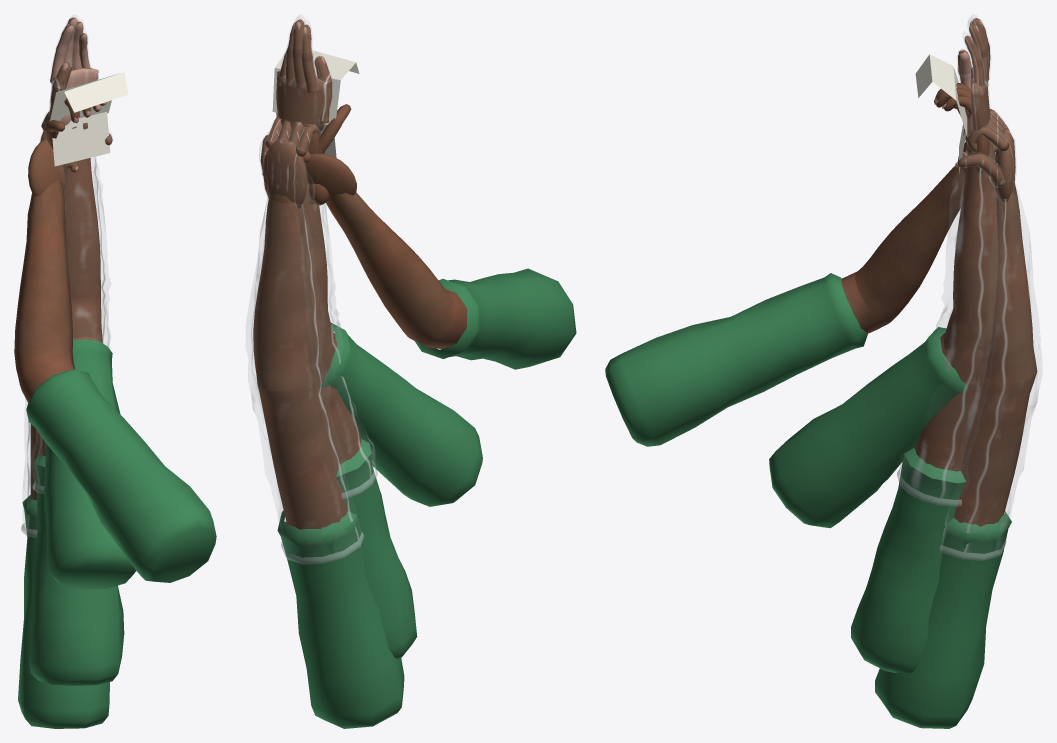
File: arms-Cob50W9K.glb
3 views of the same model, side by side, from view 1: azimuth 30°, elevation 25°; view 2: azimuth 150°, elevation 25°; view 3: azimuth 270°, elevation 25° (orthographic). The views are drawn at different scales.
Visible parts, largest first — view 1: ARM_right_gun, ARM_left_sleeve, ARM_right_towel, ARM_left_tail, ARM_left_hand; view 2: ARM_left_tail, ARM_right_gun, ARM_right_towel, ARM_left_sleeve, ARM_left_hand; view 3: ARM_left_tail, ARM_right_gun, ARM_left_sleeve, ARM_right_towel, ARM_left_hand.
Boxes of the visible parts, bbox=[...] form: ARM_right_gun: bbox=[14, 138, 216, 582]; ARM_left_sleeve: bbox=[28, 157, 124, 685]; ARM_right_towel: bbox=[44, 72, 136, 589]; ARM_left_tail: bbox=[18, 111, 112, 728]; ARM_left_hand: bbox=[48, 14, 98, 125]; ARM_left_tail: bbox=[246, 116, 404, 728]; ARM_right_gun: bbox=[288, 134, 576, 369]; ARM_right_towel: bbox=[272, 50, 482, 506]; ARM_left_sleeve: bbox=[302, 181, 417, 658]; ARM_left_hand: bbox=[275, 14, 332, 133]; ARM_left_tail: bbox=[875, 109, 1041, 728]; ARM_right_gun: bbox=[605, 141, 996, 446]; ARM_left_sleeve: bbox=[851, 141, 1002, 672]; ARM_right_towel: bbox=[769, 54, 992, 528]; ARM_left_hand: bbox=[957, 14, 990, 132].
Bounding box in the file's own units: 0.2481 × 1.13 × 0.624.
9 materials, 2 textured.
